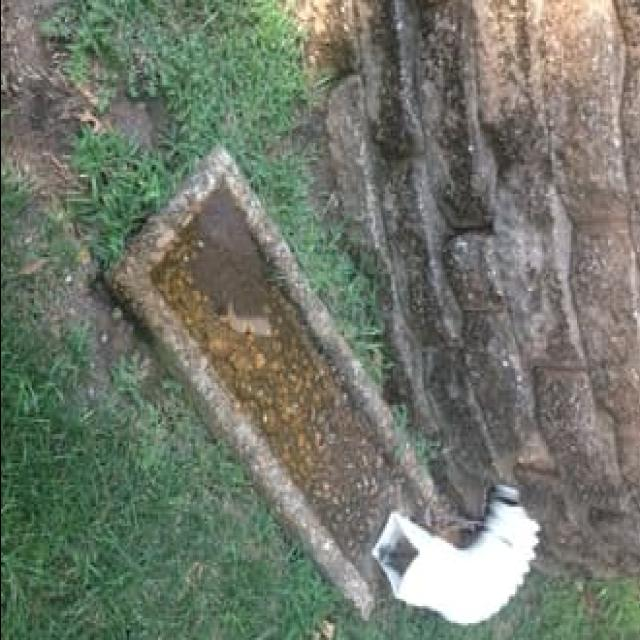Breeding Place: (118, 157, 442, 627)
